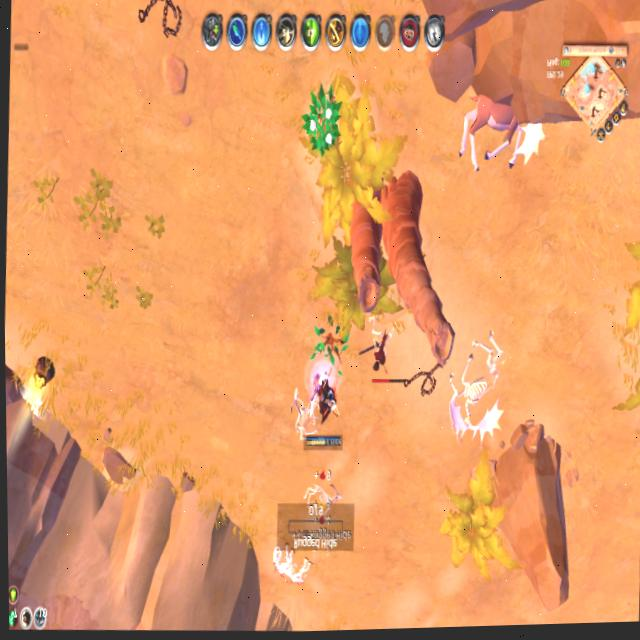hide: (300, 85, 346, 160)
mob: (454, 88, 521, 173)
ore: (358, 310, 410, 389)
red: (304, 372, 343, 452)
